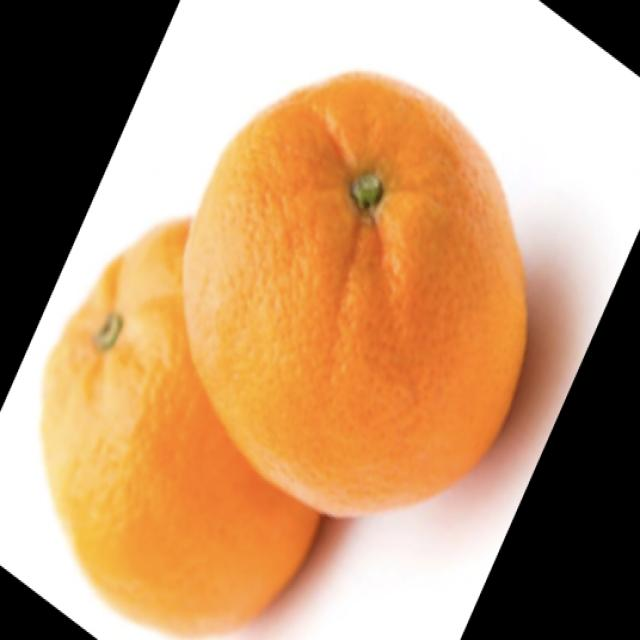fresh: (33, 60, 540, 630)
